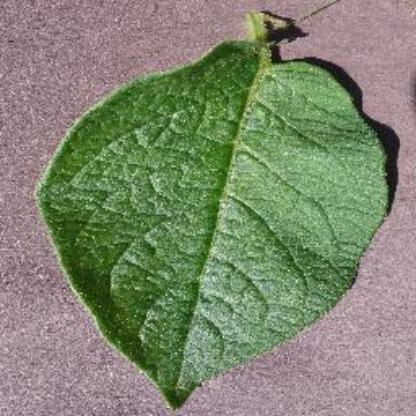Healthy-plant: (29, 4, 397, 410)
